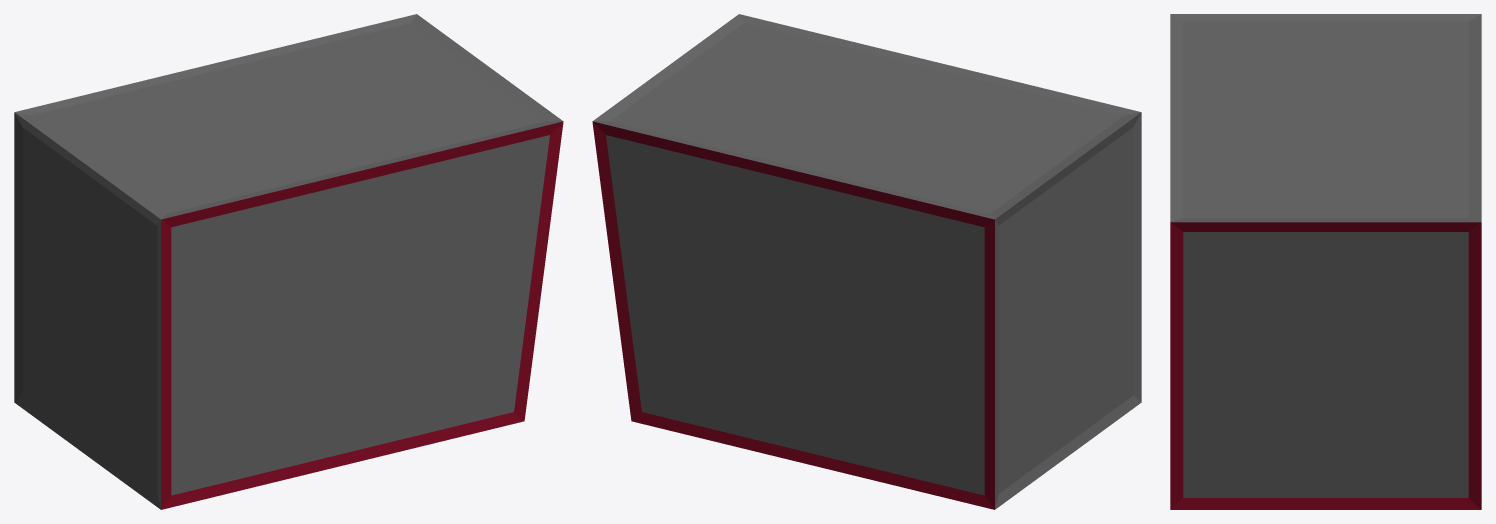
Rendered from topukorta.fbx.
3 views of the same model, side by side, from view 1: azimuth 30°, elevation 25°; view 2: azimuth 150°, elevation 25°; view 3: azimuth 270°, elevation 25° (orthographic). The views are drawn at different scales.
Parts seen in each view (by area): view 1: Plane.005; view 2: Plane.005; view 3: Plane.005.
Boxes of the visible parts, box(x1,y1,x2,y2) form: Plane.005: box(14, 14, 563, 509); Plane.005: box(592, 14, 1141, 509); Plane.005: box(1170, 14, 1481, 509).
Size of the model in its own units: 78.83 by 54.35 by 49.77.
